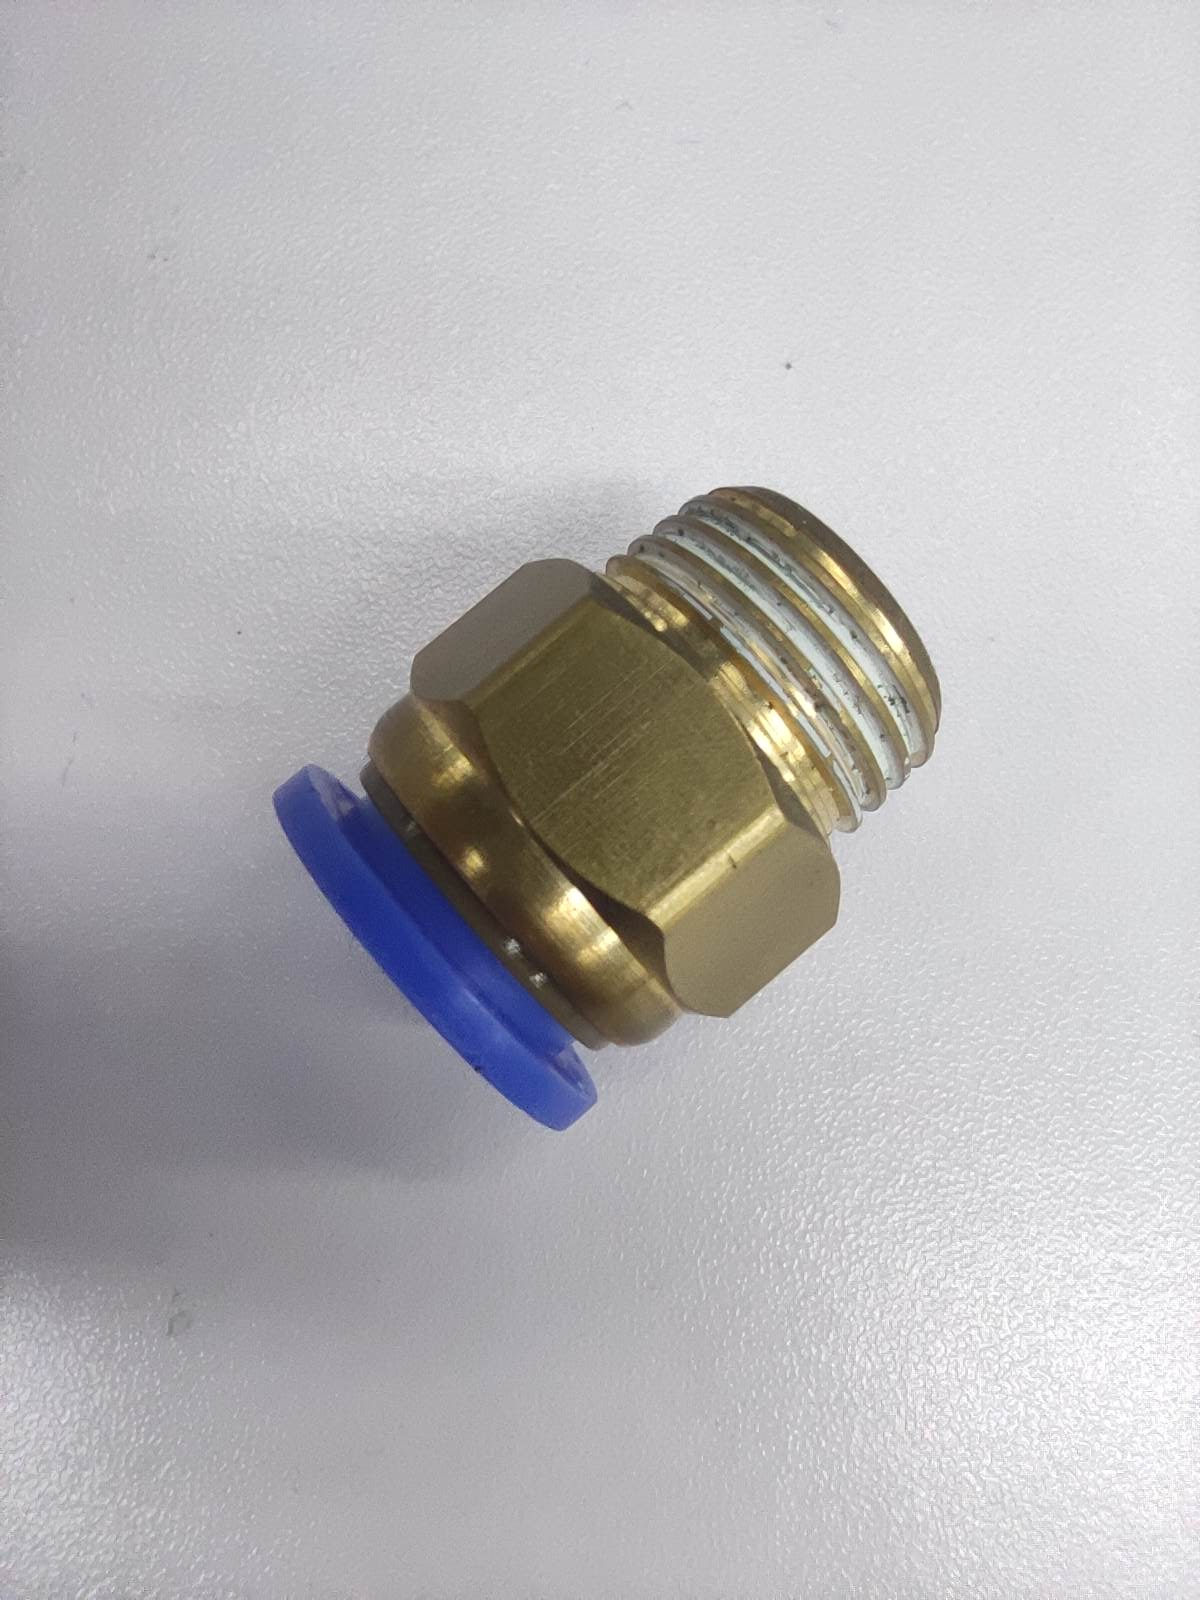水管接头黄: (268, 483, 943, 1133)
